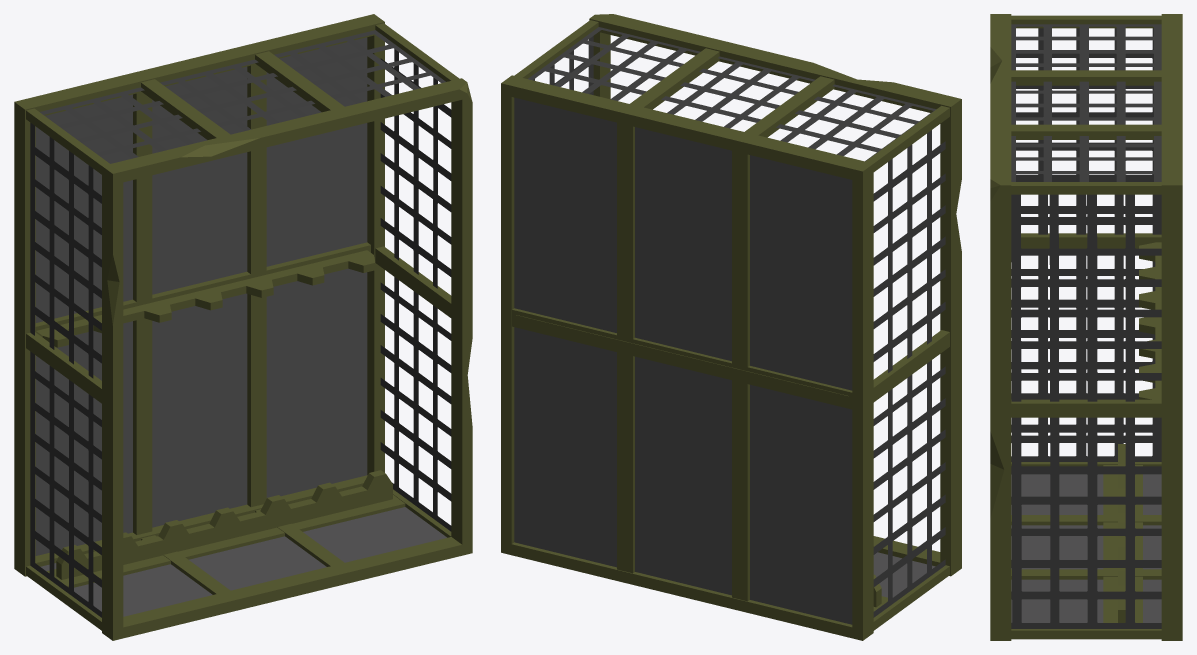
File: SM_Prop_Gunlocker_01.glb
3 renders of one model, left to right at view 1: azimuth 30°, elevation 25°; view 2: azimuth 150°, elevation 25°; view 3: azimuth 270°, elevation 25°, orthographic. The views are drawn at different scales.
Visible parts, largest first — view 1: SM_Prop_Gunlocker_01; view 2: SM_Prop_Gunlocker_01; view 3: SM_Prop_Gunlocker_01.
Boxes of the visible parts, box(x1,y1,x2,y2) form: SM_Prop_Gunlocker_01: box(14, 14, 472, 640); SM_Prop_Gunlocker_01: box(501, 14, 961, 640); SM_Prop_Gunlocker_01: box(990, 14, 1182, 640).
Bounding box in the file's own units: 1.42 × 1.76 × 0.6723.
2 materials, 2 textured.
